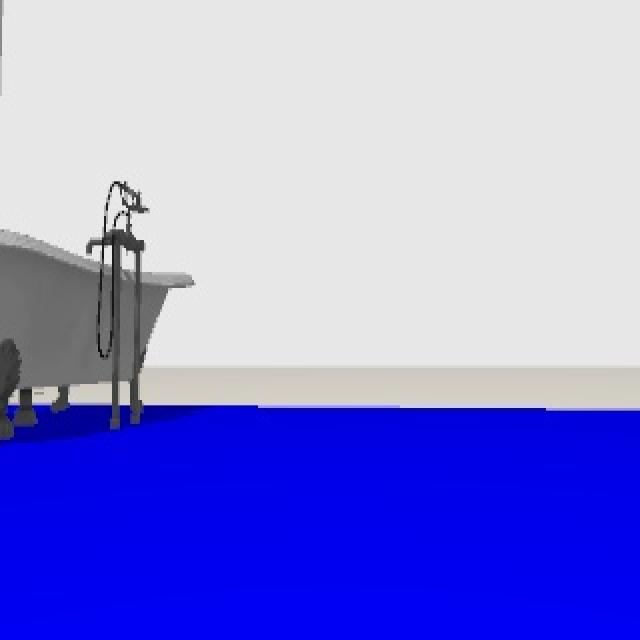bathtub: (1, 169, 196, 446)
